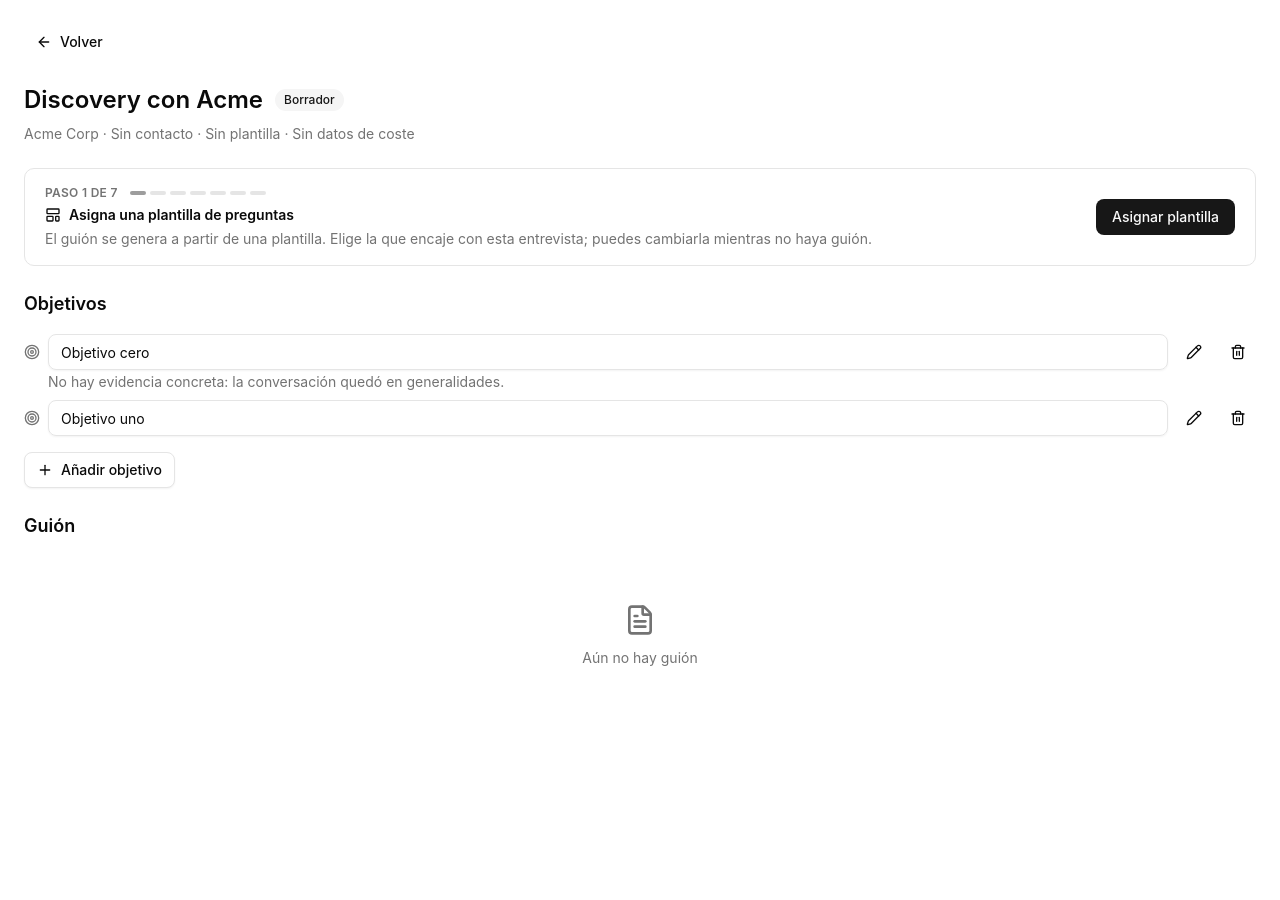
Scenario: ObjectivesSection › override dialog opening › restores the saved manual state and comment when reopening the dialog of an overridden objective
Click the button with test id "objective-override-button" at (1194, 352), box [1176,334,1212,370]
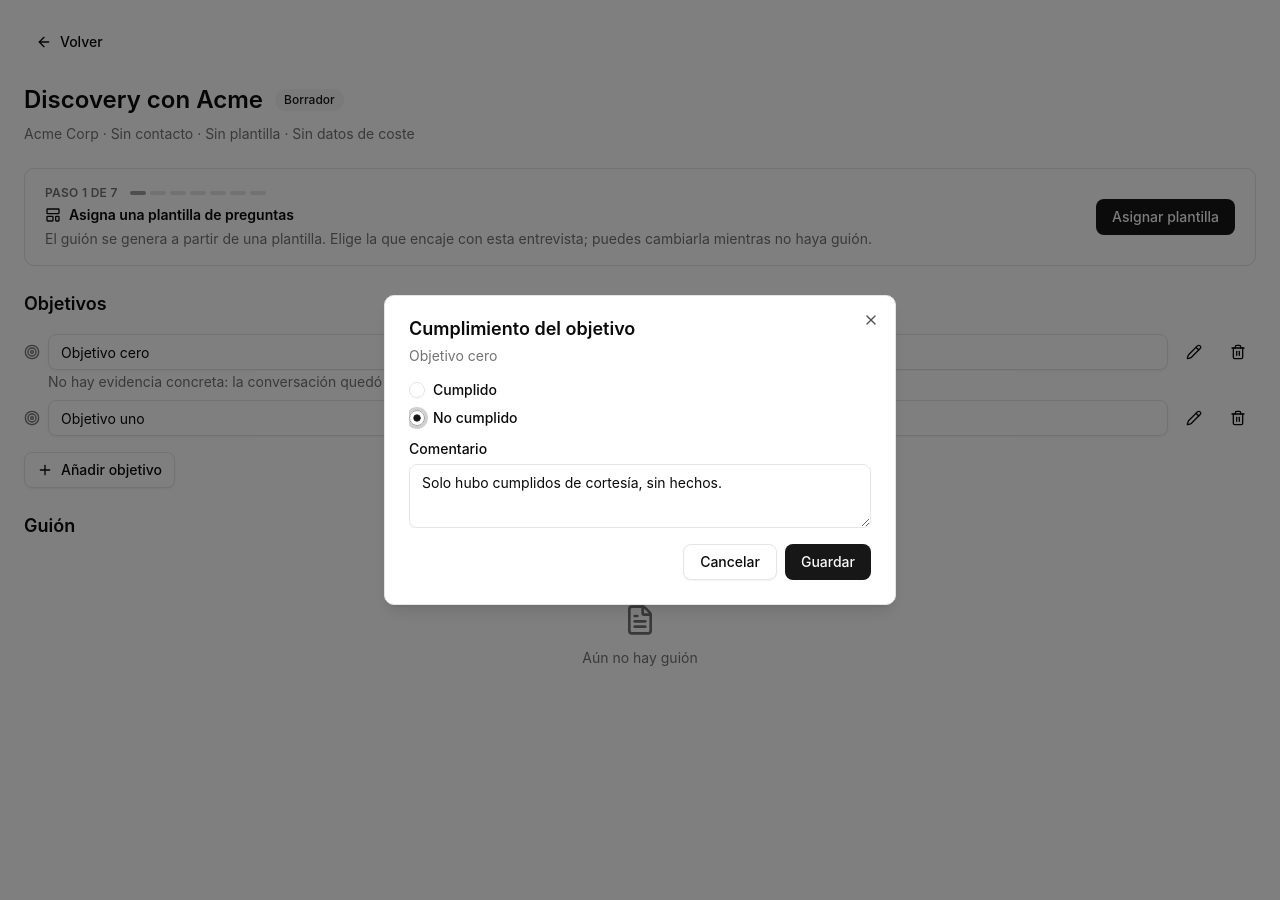
Expected: the radio button named "No cumplido" next to "No cumplido" is checked, [409,410,425,426]
Expected: the text box with test id "objective-override-comment" holds "Solo hubo cumplidos de cortesía, sin hechos.", [409,464,871,528]
